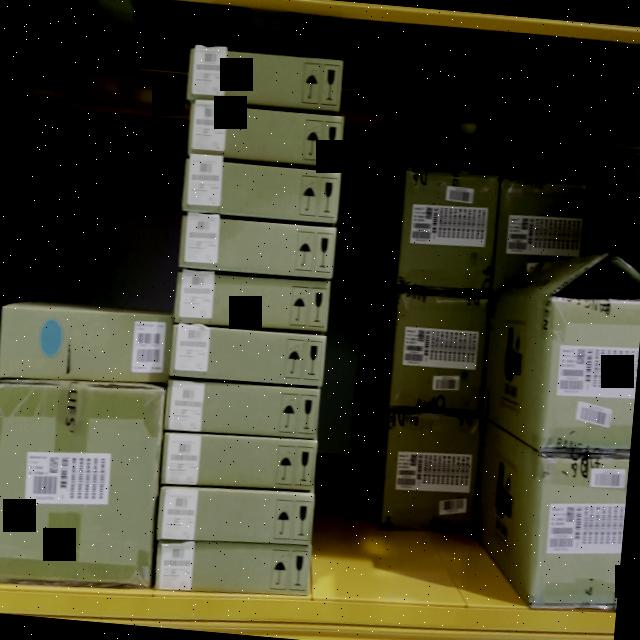box: (0, 375, 164, 590), (0, 307, 171, 380), (381, 410, 482, 532), (398, 170, 498, 290), (391, 292, 489, 413), (183, 160, 340, 224), (176, 269, 330, 334), (188, 104, 344, 168), (158, 484, 314, 548), (188, 48, 342, 110), (166, 378, 320, 439), (179, 216, 335, 276), (162, 434, 316, 490), (170, 327, 326, 382), (154, 543, 310, 595)
